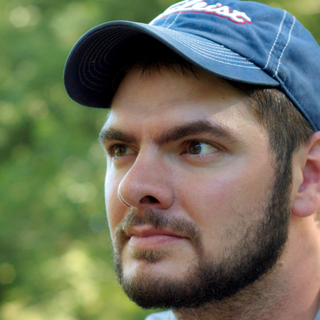eye: (173, 135, 226, 161), (104, 139, 138, 163)
